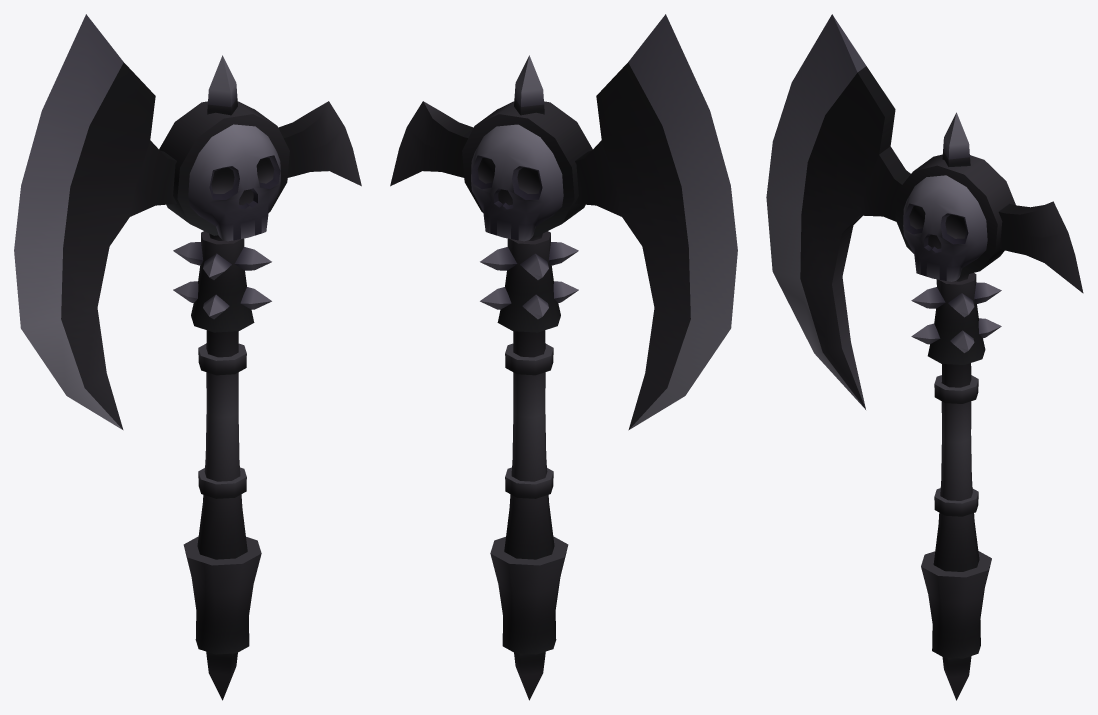
File: ma036_Weapon.FBX
3 views of the same model, side by side, from view 1: azimuth 30°, elevation 25°; view 2: azimuth 150°, elevation 25°; view 3: azimuth 330°, elevation 25° (orthographic). The views are drawn at different scales.
Visible parts, largest first — view 1: ma036_Weapon; view 2: ma036_Weapon; view 3: ma036_Weapon.
Boxes of the visible parts, x1,y1,x2,y2 form: ma036_Weapon: (14, 14, 361, 700); ma036_Weapon: (390, 14, 737, 700); ma036_Weapon: (766, 14, 1083, 700).
Size of the model in its own units: 61.08 by 121 by 16.32.
